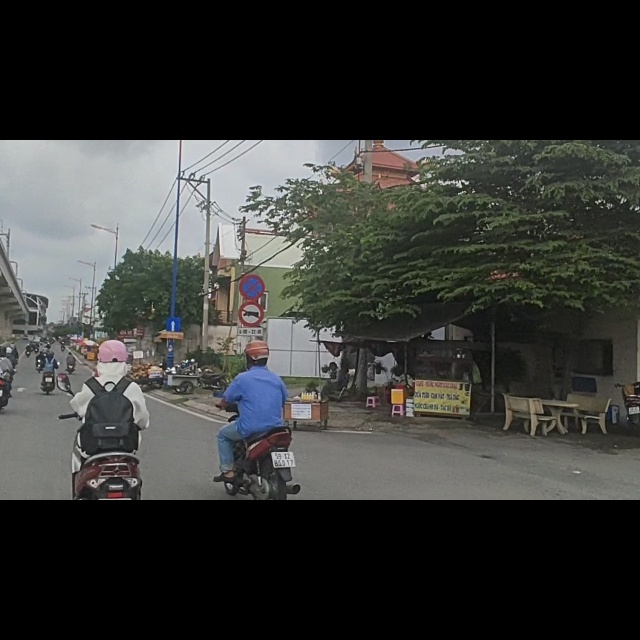bien_cam: (239, 237, 265, 284), (239, 288, 264, 333), (166, 313, 183, 344)
